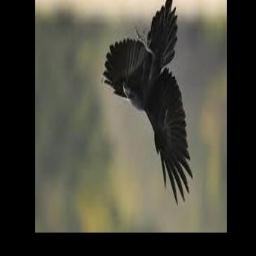Crow: (101, 0, 192, 206)
